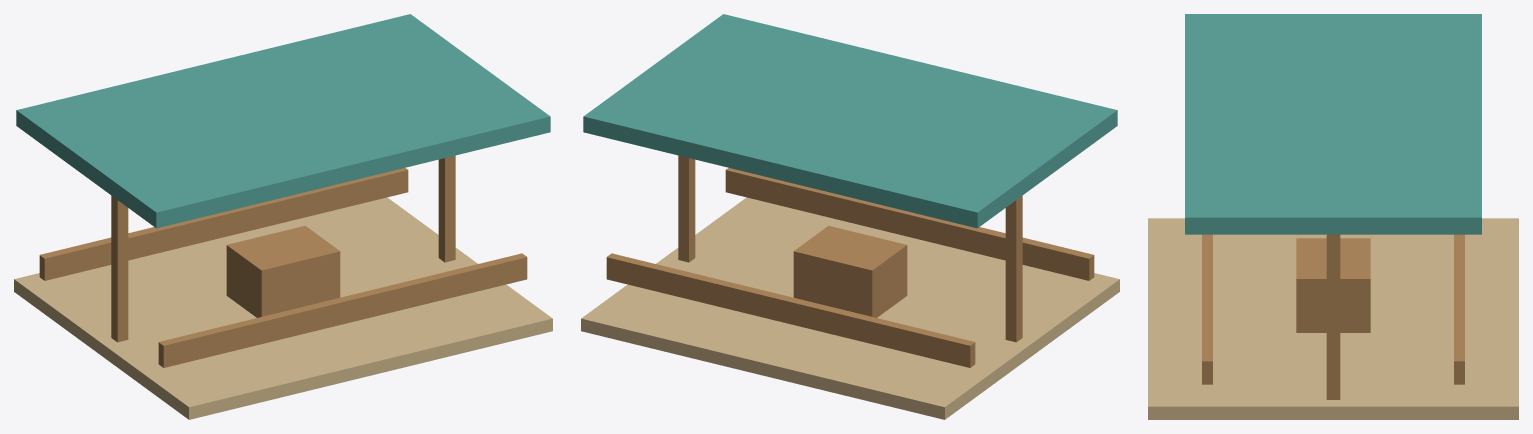
File: auction-barn.source.glb
3 views of the same model, side by side, from view 1: azimuth 30°, elevation 25°; view 2: azimuth 150°, elevation 25°; view 3: azimuth 270°, elevation 25° (orthographic). The views are drawn at different scales.
Visible parts, largest first — view 1: auction-barn-roof-mesh, auction-barn-yard-mesh, auction-barn-rail-1.7-mesh, auction-barn-rail--1.7-mesh, auction-barn-stand-mesh, auction-barn-post--2.7-mesh, auction-barn-post-2.7-mesh; view 2: auction-barn-roof-mesh, auction-barn-yard-mesh, auction-barn-rail--1.7-mesh, auction-barn-rail-1.7-mesh, auction-barn-stand-mesh, auction-barn-post--2.7-mesh, auction-barn-post-2.7-mesh; view 3: auction-barn-roof-mesh, auction-barn-yard-mesh, auction-barn-stand-mesh, auction-barn-post-2.7-mesh, auction-barn-rail--1.7-mesh, auction-barn-rail-1.7-mesh.
Boxes of the visible parts, bbox=[...] form: auction-barn-roof-mesh: bbox=[16, 14, 550, 228]; auction-barn-yard-mesh: bbox=[14, 197, 552, 419]; auction-barn-rail-1.7-mesh: bbox=[158, 253, 527, 367]; auction-barn-rail--1.7-mesh: bbox=[39, 168, 408, 280]; auction-barn-stand-mesh: bbox=[226, 225, 340, 317]; auction-barn-post--2.7-mesh: bbox=[111, 195, 128, 342]; auction-barn-post-2.7-mesh: bbox=[438, 155, 455, 262]; auction-barn-roof-mesh: bbox=[583, 14, 1117, 228]; auction-barn-yard-mesh: bbox=[581, 197, 1119, 419]; auction-barn-rail--1.7-mesh: bbox=[606, 253, 975, 367]; auction-barn-rail-1.7-mesh: bbox=[725, 168, 1094, 280]; auction-barn-stand-mesh: bbox=[793, 225, 907, 317]; auction-barn-post--2.7-mesh: bbox=[1005, 195, 1022, 342]; auction-barn-post-2.7-mesh: bbox=[678, 155, 695, 262]; auction-barn-roof-mesh: bbox=[1185, 14, 1481, 234]; auction-barn-yard-mesh: bbox=[1148, 218, 1518, 419]; auction-barn-stand-mesh: bbox=[1296, 238, 1370, 332]; auction-barn-post-2.7-mesh: bbox=[1326, 234, 1340, 399]; auction-barn-rail--1.7-mesh: bbox=[1454, 234, 1464, 384]; auction-barn-rail-1.7-mesh: bbox=[1202, 234, 1212, 384].
Bounding box in the file's own units: 6.5 × 3.13 × 5.
